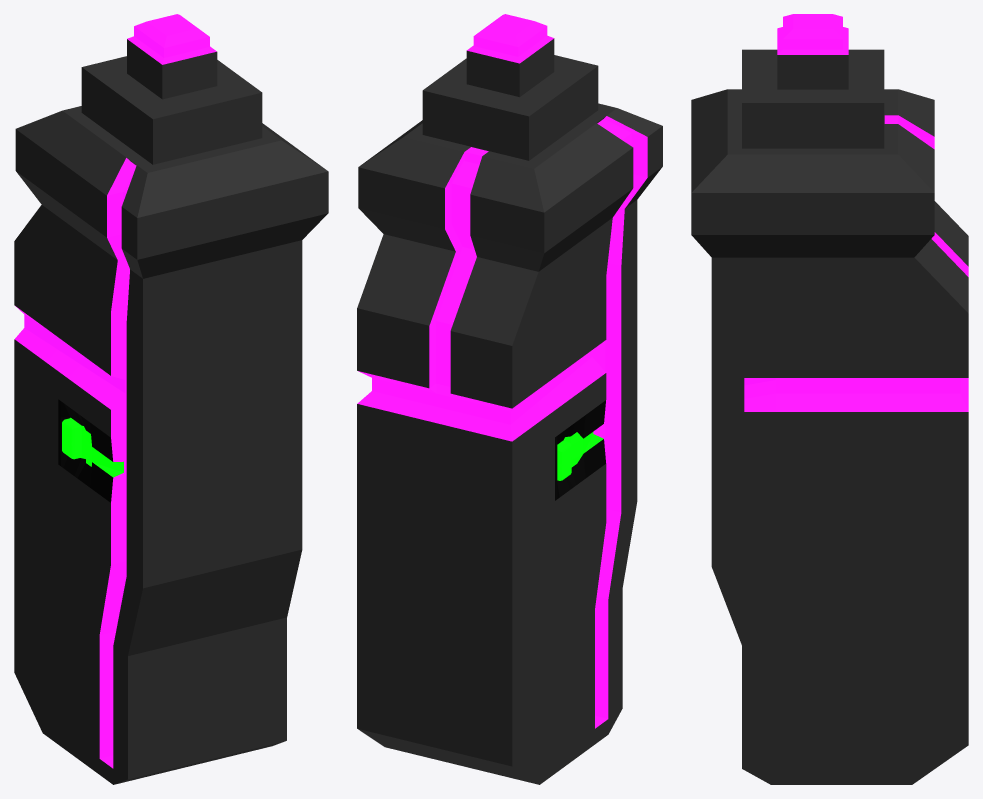
File: SwingHandle.fbx
The picture shows the model from 3 angles, left to right: view 1: azimuth 30°, elevation 25°; view 2: azimuth 150°, elevation 25°; view 3: azimuth 270°, elevation 25°; orthographic projection. The views are drawn at different scales.
Visible parts, largest first — view 1: SwingHandle; view 2: SwingHandle; view 3: SwingHandle.
Boxes of the visible parts, x1,y1,x2,y2 form: SwingHandle: (14, 14, 328, 784); SwingHandle: (357, 14, 662, 784); SwingHandle: (691, 14, 968, 784).
Size of the model in its own units: 31.12 by 113 by 39.13.
